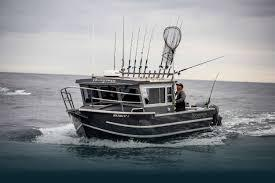fishing boat: (57, 13, 229, 145)
